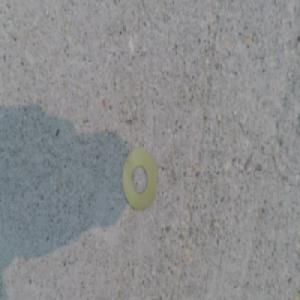Washer: (120, 145, 157, 212)
